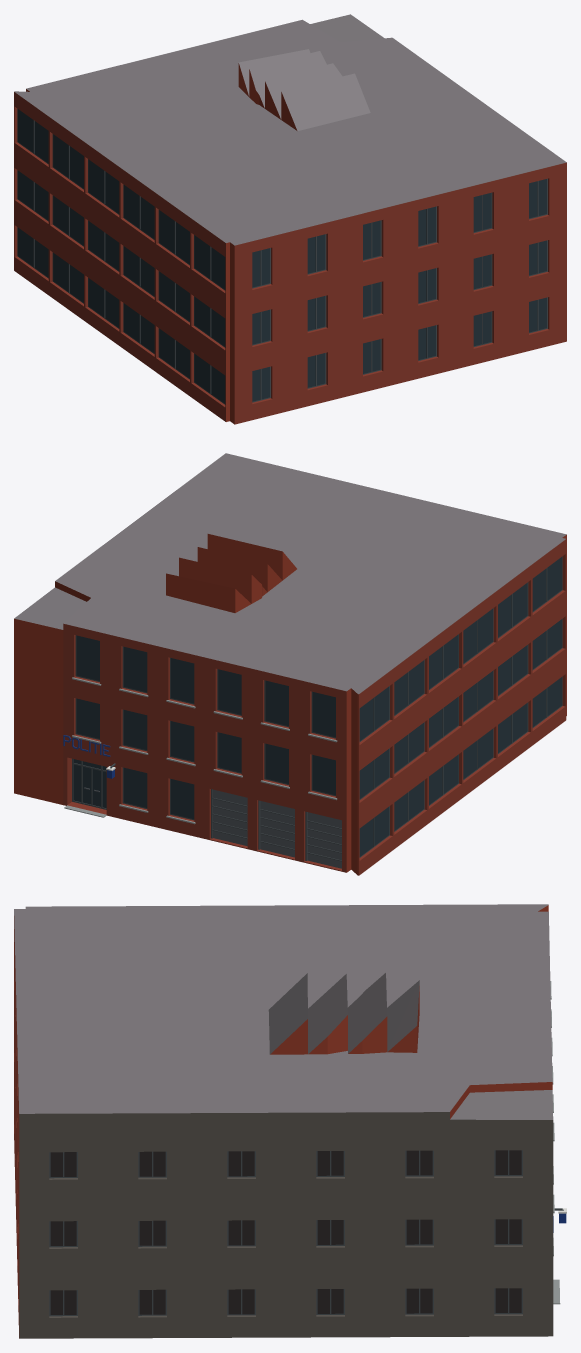
The model's file is recipe-large-politie-postjesweg.glb.
3 views of the same model, one above another, from view 1: azimuth 30°, elevation 25°; view 2: azimuth 150°, elevation 25°; view 3: azimuth 270°, elevation 25° (orthographic). The views are drawn at different scales.
Visible parts, largest first — view 1: politie-postjesweg; view 2: politie-postjesweg; view 3: politie-postjesweg.
Boxes of the visible parts, x1,y1,x2,y2 form: politie-postjesweg: (14, 14, 566, 424); politie-postjesweg: (14, 453, 566, 875); politie-postjesweg: (14, 904, 566, 1338).
Size of the model in its own units: 22.74 by 13.21 by 25.35.
